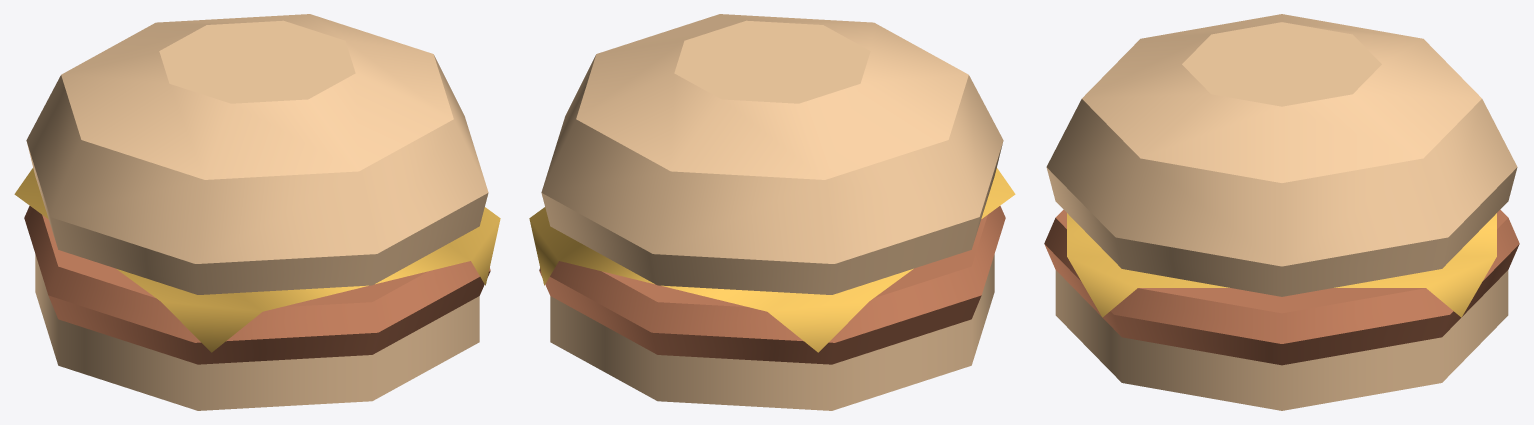
Rendered from burger.glb.
3 renders of one model, left to right at view 1: azimuth 30°, elevation 25°; view 2: azimuth 150°, elevation 25°; view 3: azimuth 270°, elevation 25°, orthographic.
Parts seen in each view (by area): view 1: bunTop, patty, bunBottom, cheese; view 2: bunTop, patty, bunBottom, cheese; view 3: bunTop, patty, bunBottom, cheese.
Boxes of the visible parts, left/top/right/bottom form: bunTop: left=26, top=14, right=488, bottom=294; patty: left=24, top=206, right=490, bottom=364; bunBottom: left=35, top=254, right=479, bottom=410; cheese: left=14, top=168, right=500, bottom=352; bunTop: left=541, top=14, right=1003, bottom=294; patty: left=539, top=206, right=1005, bottom=364; bunBottom: left=550, top=254, right=994, bottom=410; cheese: left=529, top=168, right=1015, bottom=352; bunTop: left=1046, top=14, right=1517, bottom=296; patty: left=1044, top=209, right=1519, bottom=365; bunBottom: left=1055, top=270, right=1508, bottom=410; cheese: left=1067, top=213, right=1496, bottom=317.
Bounding box in the file's own units: 0.378 × 0.22 × 0.378.
